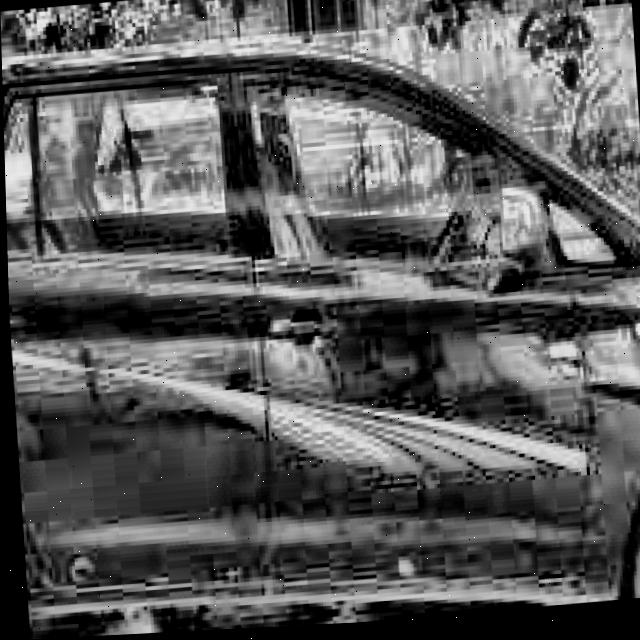light_vehicle: (1, 1, 640, 640)
